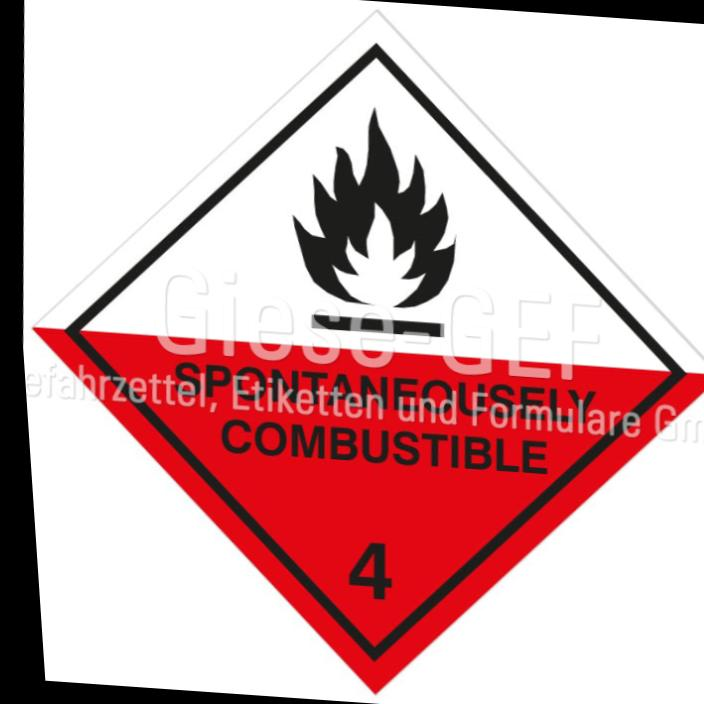charging station: (38, 14, 704, 689)
